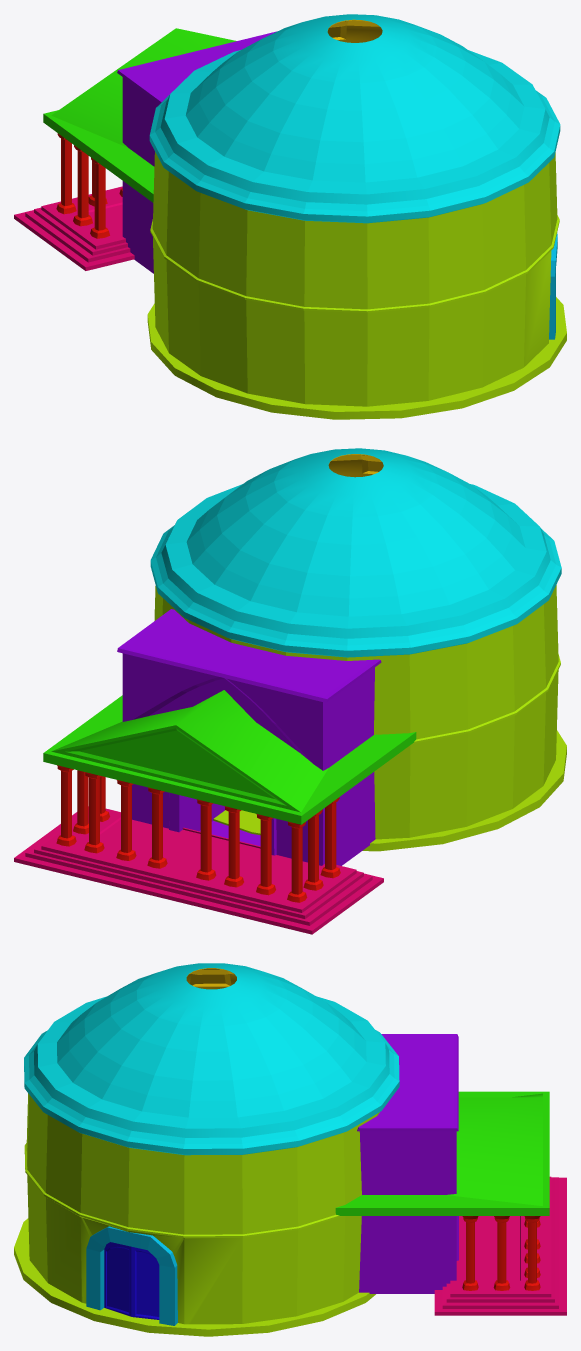
File: pantheon_regroup.fbx
The picture shows the model from 3 angles, top to bottom: view 1: azimuth 30°, elevation 25°; view 2: azimuth 150°, elevation 25°; view 3: azimuth 270°, elevation 25°; orthographic projection. The views are drawn at different scales.
Visible parts, largest first — view 1: exterior_outsidewall, exterior_skylight, exterior_roof, entrance_walls, floor, entrance_floor, interior_skylight, column.010, column.011, column.009, doorway_arch; view 2: exterior_skylight, exterior_outsidewall, entrance_walls, exterior_roof, entrance_floor, floor, column.009, interior_skylight, column.006, column.007, column.008, column.011 (+6 smaller); view 3: exterior_skylight, exterior_outsidewall, entrance_walls, exterior_roof, entrance_floor, floor, doorway_arch, door_1, door_2, interior_skylight, column.001, column.000 (+1 smaller).
Part boxes in pixels (x1,y1,x2,y2): exterior_outsidewall: (150, 152, 559, 406); exterior_skylight: (149, 14, 560, 223); exterior_roof: (43, 28, 236, 202); entrance_walls: (117, 31, 276, 273); floor: (147, 297, 566, 419); entrance_floor: (14, 186, 134, 270); interior_skylight: (327, 19, 382, 42); column.010: (73, 145, 92, 226); column.011: (90, 157, 109, 238); column.009: (56, 133, 76, 214); doorway_arch: (549, 233, 557, 339); exterior_skylight: (150, 448, 561, 657); exterior_outsidewall: (154, 585, 560, 839); entrance_walls: (117, 609, 381, 865); exterior_roof: (43, 690, 416, 824); entrance_floor: (14, 806, 383, 934); floor: (213, 730, 566, 851); column.009: (287, 821, 307, 902); interior_skylight: (328, 454, 383, 477); column.006: (196, 799, 216, 880); column.007: (224, 806, 243, 887); column.008: (256, 814, 275, 895); column.011: (320, 797, 340, 878); exterior_skylight: (24, 963, 399, 1155); exterior_outsidewall: (24, 1093, 379, 1324); entrance_walls: (357, 1034, 458, 1293); exterior_roof: (335, 1091, 549, 1215); entrance_floor: (434, 1176, 566, 1315); floor: (14, 1218, 375, 1336); doorway_arch: (86, 1226, 177, 1325); door_1: (104, 1242, 131, 1316); door_2: (132, 1247, 159, 1319); interior_skylight: (186, 968, 236, 989); column.001: (493, 1216, 510, 1290); column.000: (462, 1216, 478, 1290).
Bounding box in the file's own units: 2495 × 1950 × 3546.
